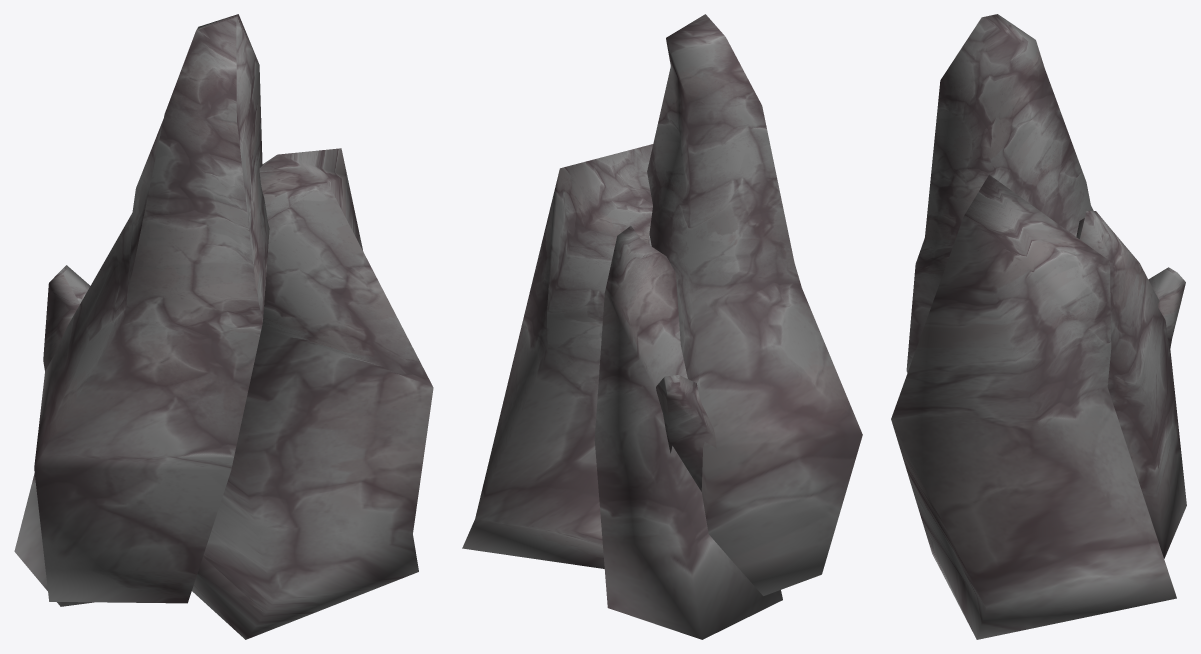
The model's file is Little Rocks.fbx.
3 renders of one model, left to right at view 1: azimuth 30°, elevation 25°; view 2: azimuth 150°, elevation 25°; view 3: azimuth 270°, elevation 25°, orthographic. The views are drawn at different scales.
Visible parts, largest first — view 1: Roca 3.005; view 2: Roca 3.005; view 3: Roca 3.005.
Part boxes in pixels (box(x1,y1,x2,y2)): Roca 3.005: box(14, 14, 433, 639); Roca 3.005: box(462, 14, 862, 639); Roca 3.005: box(891, 14, 1186, 639).
Size of the model in its own units: 665 by 1030 by 507.
